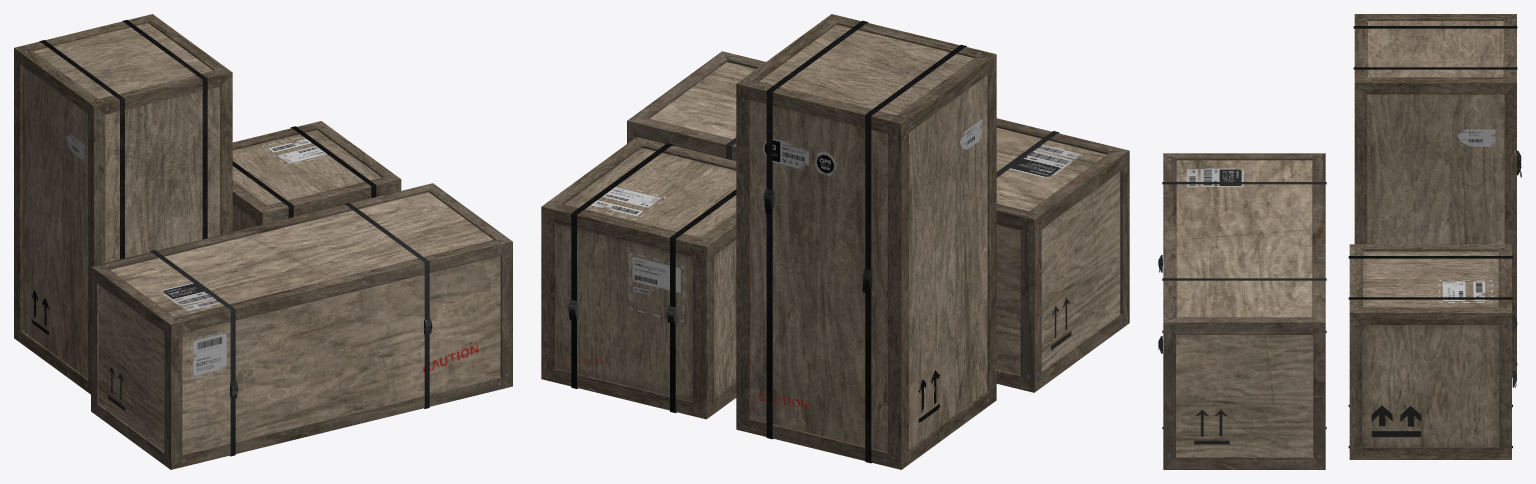
The model's file is wood_crate.glb.
3 renders of one model, left to right at view 1: azimuth 30°, elevation 25°; view 2: azimuth 150°, elevation 25°; view 3: azimuth 270°, elevation 25°, orthographic. The views are drawn at different scales.
Parts seen in each view (by area): view 1: Wood_Crate_C, Wood_Crate_B, Wood_Crate_A; view 2: Wood_Crate_B, Wood_Crate_A, Wood_Crate_C; view 3: Wood_Crate_C, Wood_Crate_B, Wood_Crate_A.
Part boxes in pixels (x1=…): Wood_Crate_C: x1=91, y1=183, x2=512, y2=469; Wood_Crate_B: x1=14, y1=14, x2=232, y2=394; Wood_Crate_A: x1=232, y1=121, x2=401, y2=231; Wood_Crate_B: x1=736, y1=14, x2=996, y2=469; Wood_Crate_A: x1=541, y1=137, x2=736, y2=419; Wood_Crate_C: x1=627, y1=51, x2=1129, y2=392; Wood_Crate_C: x1=1158, y1=153, x2=1326, y2=469; Wood_Crate_B: x1=1353, y1=14, x2=1521, y2=377; Wood_Crate_A: x1=1348, y1=244, x2=1516, y2=459.
Size of the model in its own units: 1009 by 822 by 914.
Materials: 3 (3 with a texture image).
